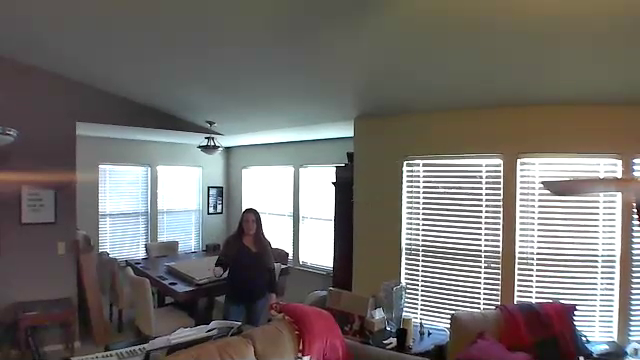land: (210, 265, 229, 280)
